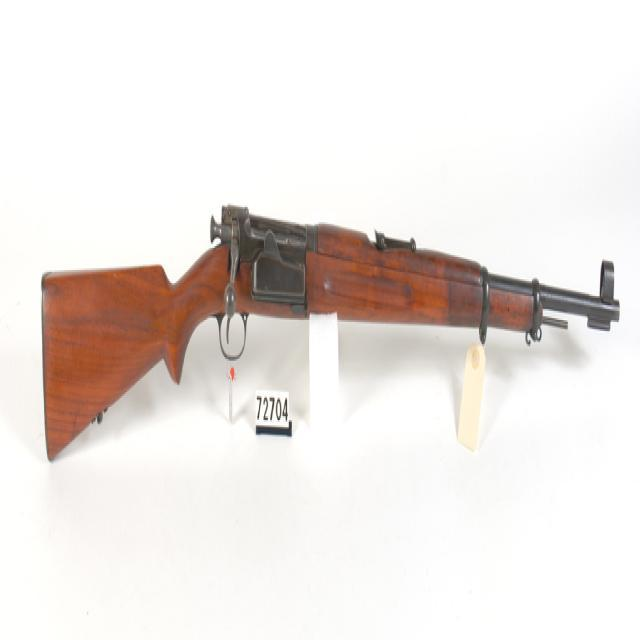weapon: (41, 268, 618, 460)
